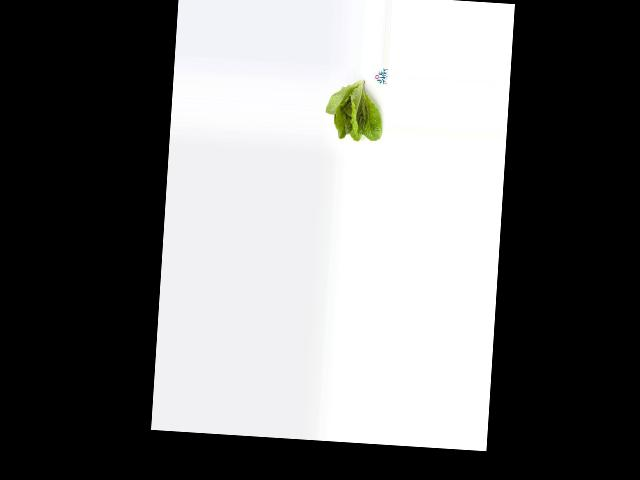lettuce: (322, 77, 384, 144)
